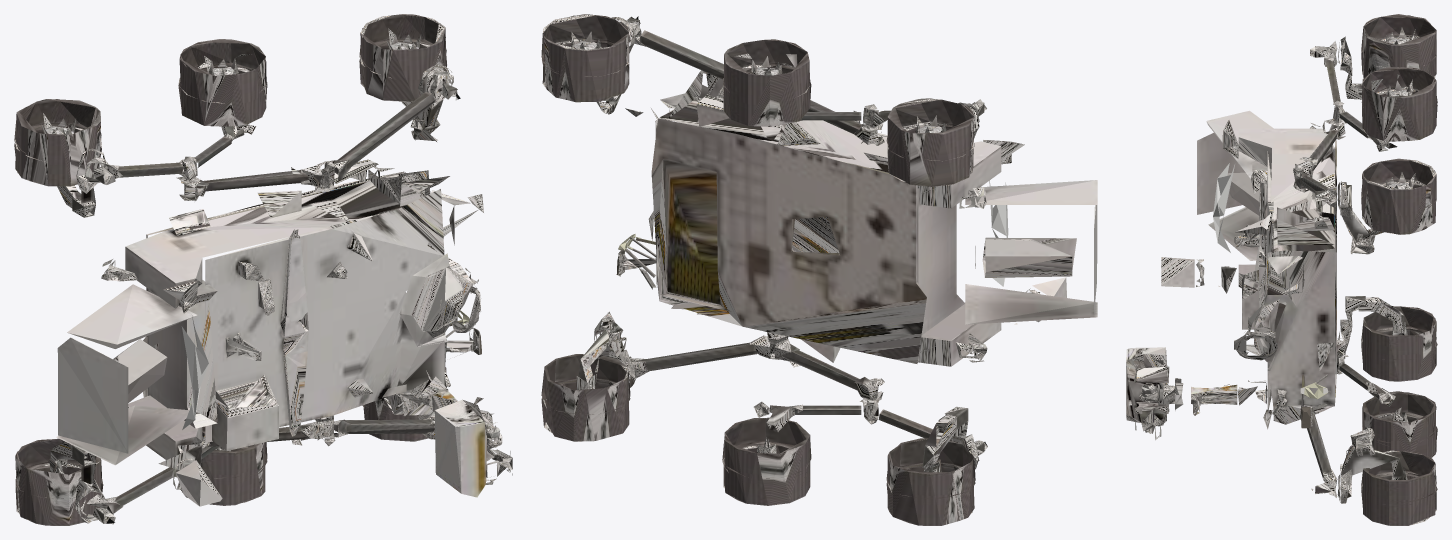
The model's file is rover-low.glb.
3 views of the same model, side by side, from view 1: azimuth 30°, elevation 25°; view 2: azimuth 150°, elevation 25°; view 3: azimuth 270°, elevation 25° (orthographic). The views are drawn at different scales.
Parts seen in each view (by area): view 1: chassis:CHASSIS, wheel_lm:Wheel_LeftMiddle, wheel_lr:Wheel_LeftRear, wheel_lf:Wheel_LeftFront, chassis:RSM_Head, wheel_rr:Wheel_RightRear, left_rocker:Left_Rocker, differential:CenterDifferential, wheel_rm:Wheel_RightMiddle, left_bogie:Left_Bogie, right_rocker:Right_Rocker, steer_rr:Steer_RightRear (+4 smaller); view 2: chassis:CHASSIS, wheel_lf:Wheel_LeftFront, wheel_lr:Wheel_LeftRear, wheel_lm:Wheel_LeftMiddle, wheel_rm:Wheel_RightMiddle, wheel_rf:Wheel_RightFront, wheel_rr:Wheel_RightRear, right_rocker:Right_Rocker, right_bogie:Right_Bogie, left_rocker:Left_Rocker, steer_rf:Steer_RightFront, steer_rr:Steer_RightRear (+1 smaller); view 3: chassis:CHASSIS, wheel_lm:Wheel_LeftMiddle, wheel_lf:Wheel_LeftFront, wheel_rr:Wheel_RightRear, wheel_rf:Wheel_RightFront, wheel_lr:Wheel_LeftRear, wheel_rm:Wheel_RightMiddle, chassis:RSM_Head, steer_rf:Steer_RightFront, left_rocker:Left_Rocker, left_bogie:Left_Bogie, steer_rr:Steer_RightRear (+6 smaller).
Boxes of the visible parts, x1,y1,x2,y2 form: chassis:CHASSIS: (56, 159, 493, 506); wheel_lm:Wheel_LeftMiddle: (178, 39, 267, 126); wheel_lr:Wheel_LeftRear: (14, 99, 101, 186); wheel_lf:Wheel_LeftFront: (359, 14, 446, 101); chassis:RSM_Head: (434, 397, 512, 497); wheel_rr:Wheel_RightRear: (15, 438, 103, 525); left_rocker:Left_Rocker: (179, 74, 460, 200); differential:CenterDifferential: (280, 229, 308, 436); wheel_rm:Wheel_RightMiddle: (181, 442, 267, 505); left_bogie:Left_Bogie: (84, 124, 256, 200); right_rocker:Right_Rocker: (199, 415, 435, 448); steer_rr:Steer_RightRear: (49, 441, 105, 523); chassis:CHASSIS: (616, 70, 1097, 366); wheel_lf:Wheel_LeftFront: (541, 14, 629, 102); wheel_lr:Wheel_LeftRear: (886, 98, 974, 186); wheel_lm:Wheel_LeftMiddle: (723, 39, 811, 126); wheel_rm:Wheel_RightMiddle: (722, 417, 811, 505); wheel_rf:Wheel_RightFront: (541, 354, 630, 441); wheel_rr:Wheel_RightRear: (886, 438, 975, 525); right_rocker:Right_Rocker: (629, 332, 884, 405); right_bogie:Right_Bogie: (754, 379, 987, 455); left_rocker:Left_Rocker: (619, 16, 884, 145); steer_rf:Steer_RightFront: (576, 311, 635, 389); steer_rr:Steer_RightRear: (922, 406, 979, 472); chassis:CHASSIS: (1161, 110, 1336, 429); wheel_lm:Wheel_LeftMiddle: (1361, 67, 1437, 141); wheel_lf:Wheel_LeftFront: (1361, 158, 1436, 234); wheel_rr:Wheel_RightRear: (1361, 306, 1437, 381); wheel_rf:Wheel_RightFront: (1361, 450, 1437, 525); wheel_lr:Wheel_LeftRear: (1361, 14, 1436, 77); wheel_rm:Wheel_RightMiddle: (1362, 391, 1437, 457); chassis:RSM_Head: (1126, 347, 1169, 440); steer_rf:Steer_RightFront: (1311, 427, 1407, 503); left_rocker:Left_Rocker: (1293, 105, 1345, 208); left_bogie:Left_Bogie: (1310, 41, 1397, 151); steer_rr:Steer_RightRear: (1338, 296, 1407, 358).
Size of the model in its own units: 3.07 by 2.7 by 2.06.
1 material, 1 textured.
